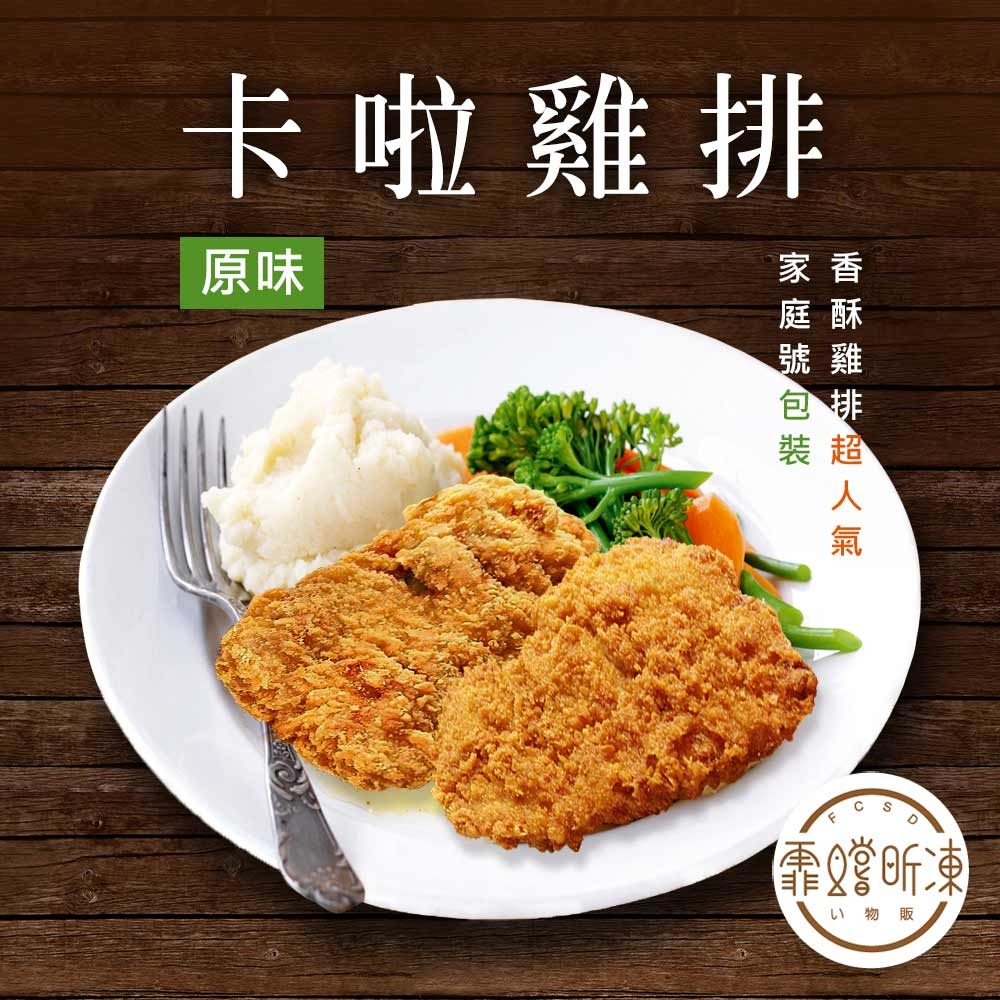fried_chicken: (222, 477, 598, 782), (456, 561, 777, 842)
